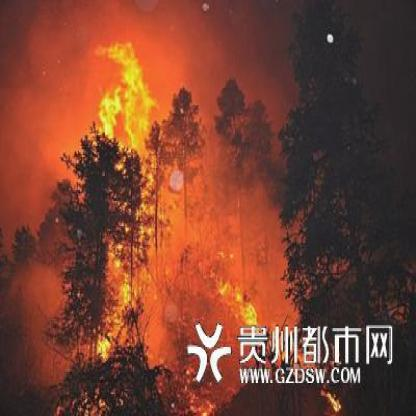fire: (79, 33, 166, 156), (94, 174, 149, 362), (209, 242, 266, 322)
